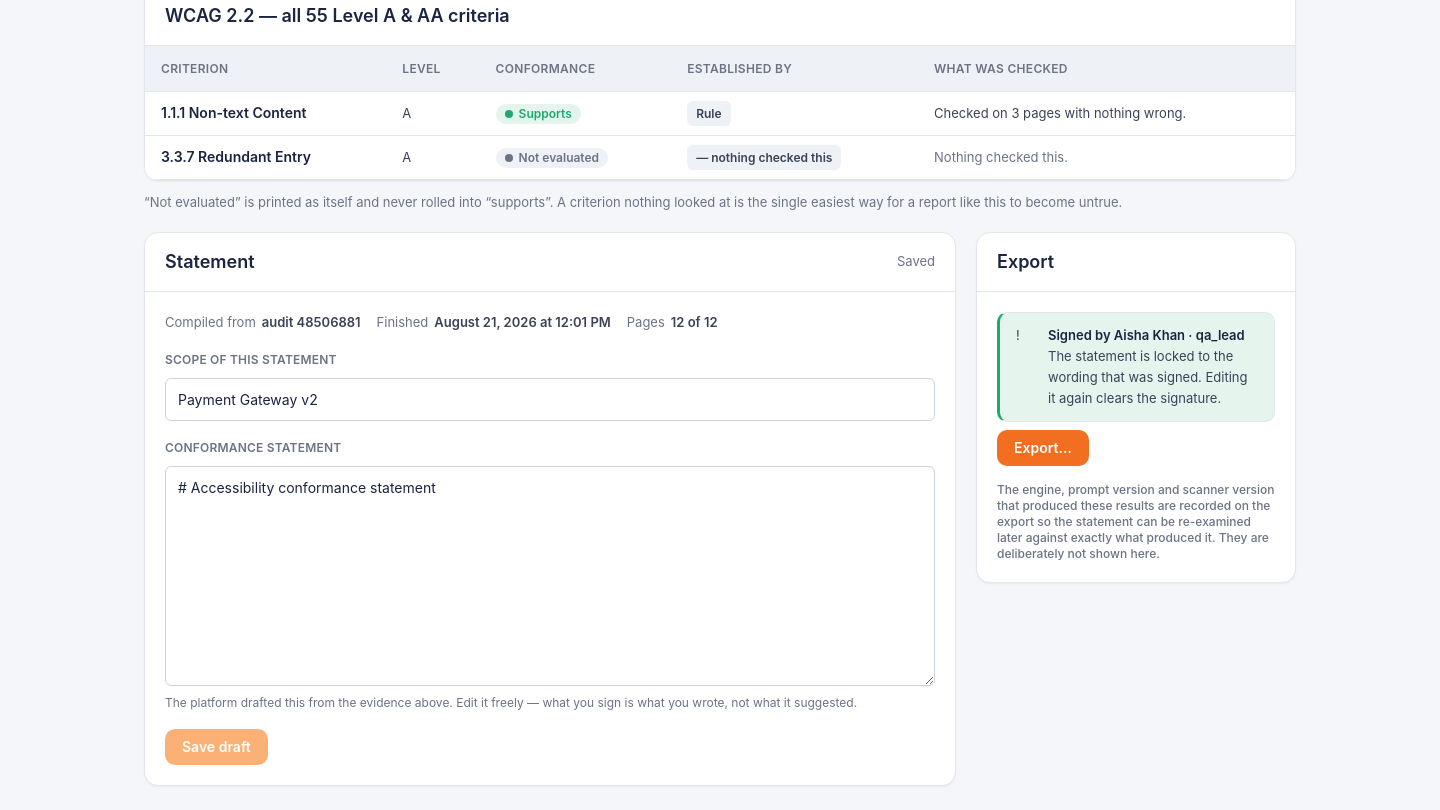
Test case: S-37 conformance statement › warns before an edit destroys a signature
(page scrolled)
Type " and more" into the text box showing "# Accessibility conformance statement".
click(550, 576); type(" and more")  # box [165,466,935,686]
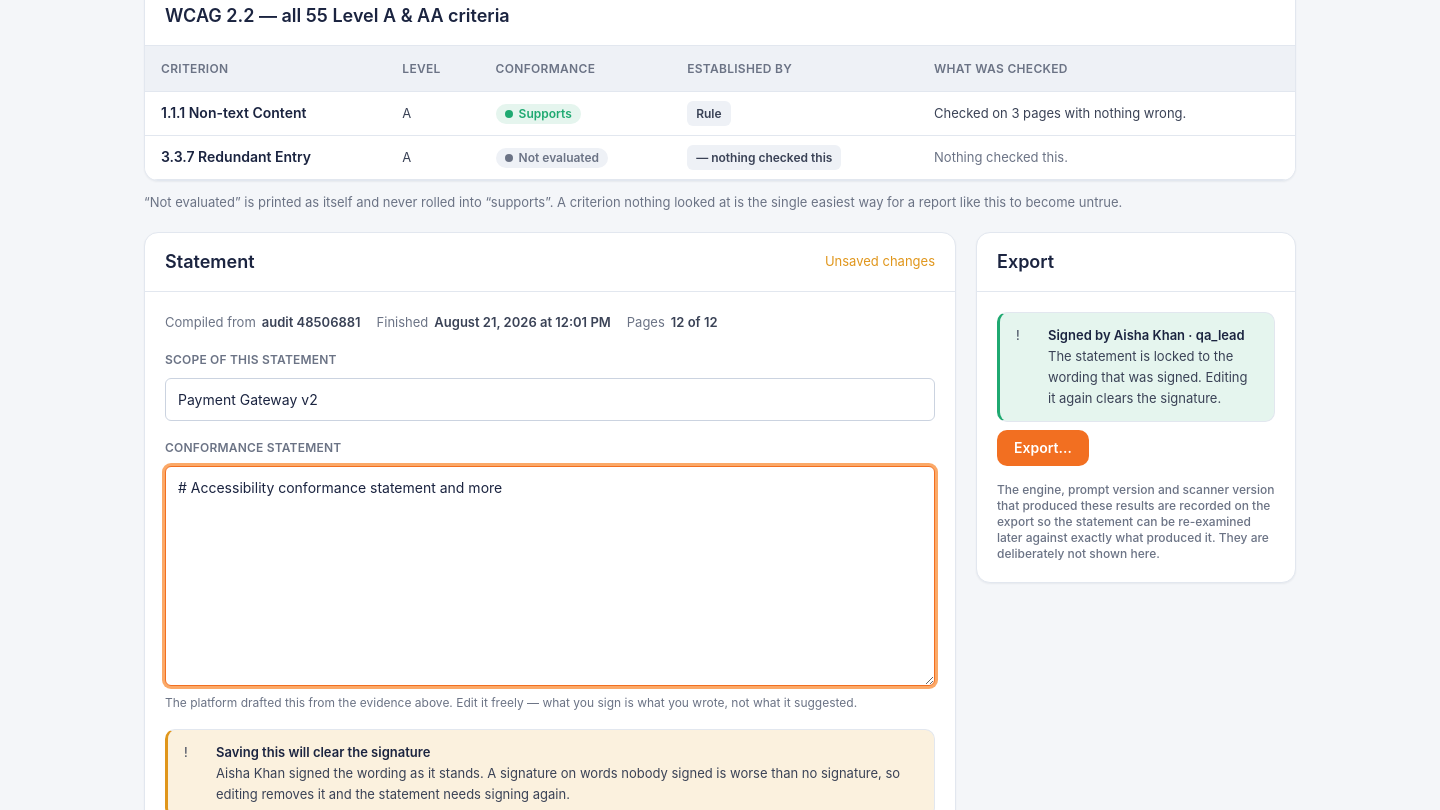
Expected: the text "Saving this will clear the signature" is shown, [216,744,430,760]
